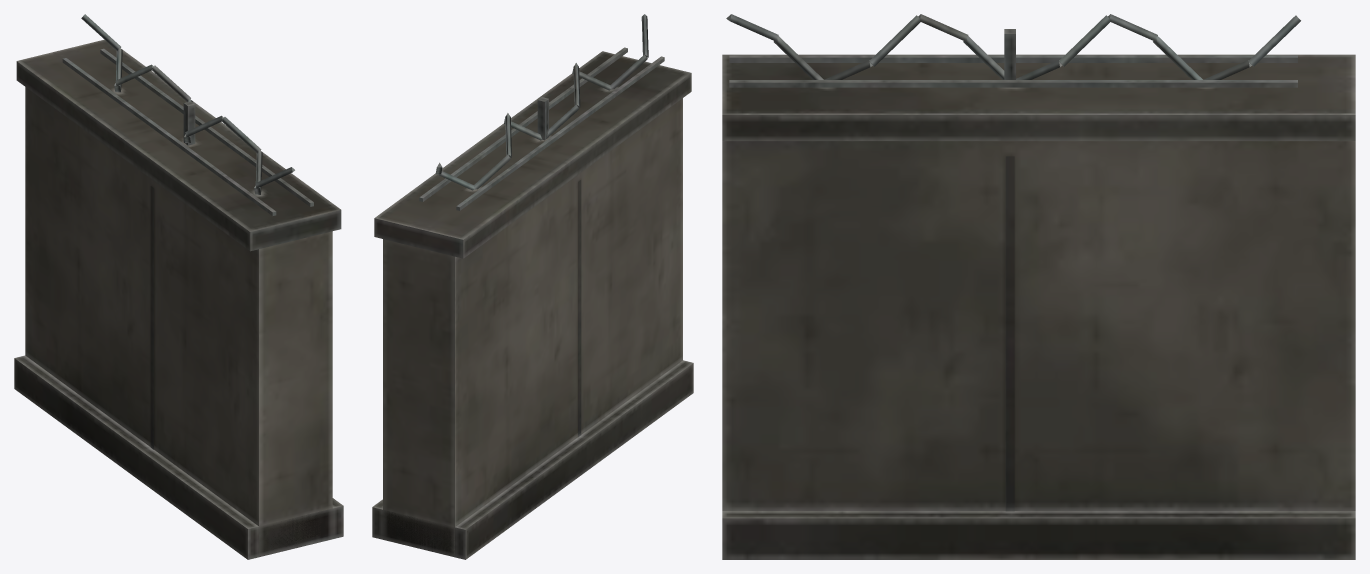
File: wall_half.glb
3 renders of one model, left to right at view 1: azimuth 30°, elevation 25°; view 2: azimuth 150°, elevation 25°; view 3: azimuth 270°, elevation 25°, orthographic. The views are drawn at different scales.
Parts seen in each view (by area): view 1: te_grounds_wall_half; view 2: te_grounds_wall_half; view 3: te_grounds_wall_half.
Part boxes in pixels (x1,y1,x2,y2): te_grounds_wall_half: (14,14,343,559); te_grounds_wall_half: (372,14,693,559); te_grounds_wall_half: (722,14,1355,559).
Size of the model in its own units: 0.13 by 0.4923 by 0.55.
Materials: 1 (1 with a texture image).
